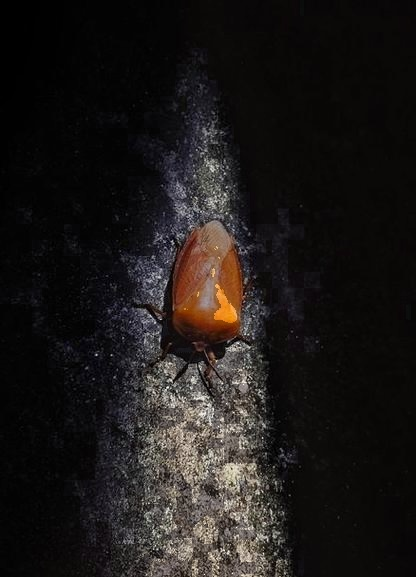Stink_Bug: (160, 219, 251, 351)
